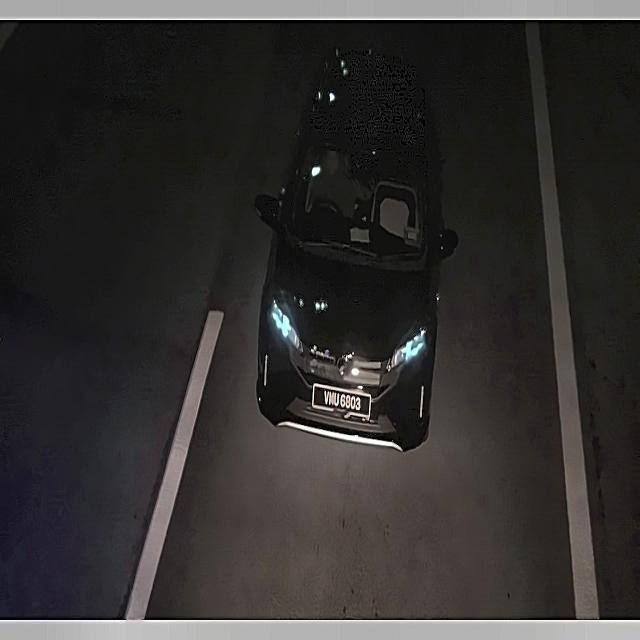car: (307, 376, 377, 425)
